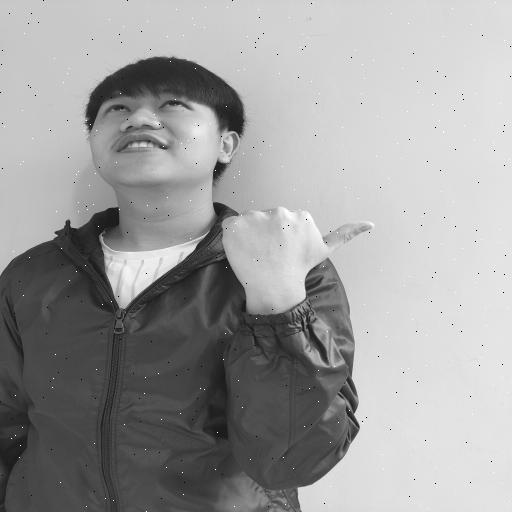back: (200, 202, 381, 320)
